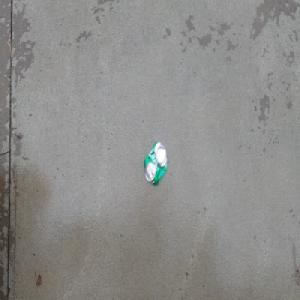SodaCan: (143, 140, 168, 187)
